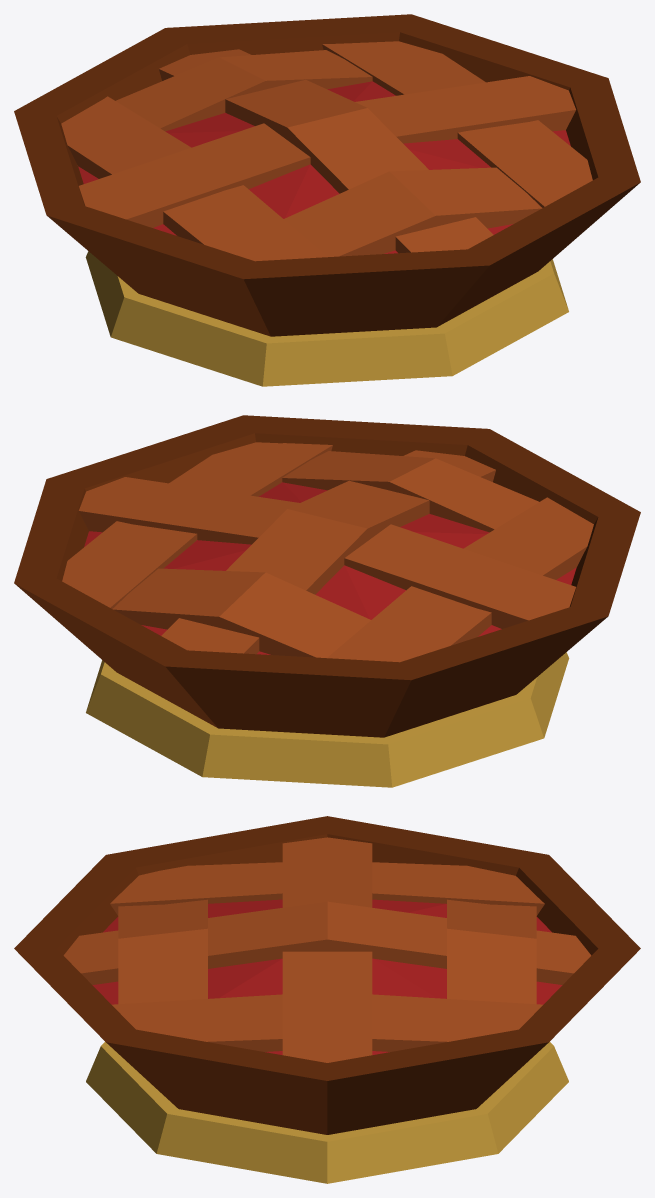
File: Food 01 Pie.fbx
3 views of the same model, one above another, from view 1: azimuth 30°, elevation 25°; view 2: azimuth 150°, elevation 25°; view 3: azimuth 270°, elevation 25° (orthographic). The views are drawn at different scales.
Visible parts, largest first — view 1: Food_01_Pie; view 2: Food_01_Pie; view 3: Food_01_Pie.
Boxes of the visible parts, <box> form: Food_01_Pie: <box>14,14,640,386</box>; Food_01_Pie: <box>14,415,640,787</box>; Food_01_Pie: <box>14,816,640,1183</box>.
Size of the model in its own units: 45.2 by 12.82 by 45.2.
